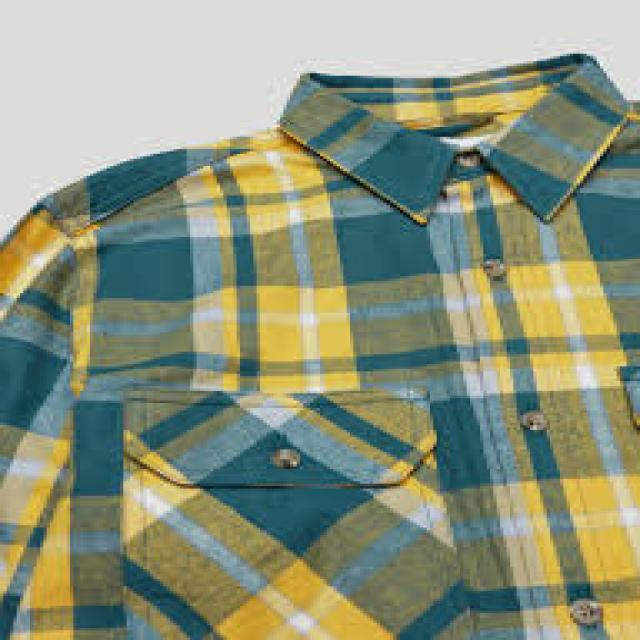plaid: (20, 68, 640, 628)
